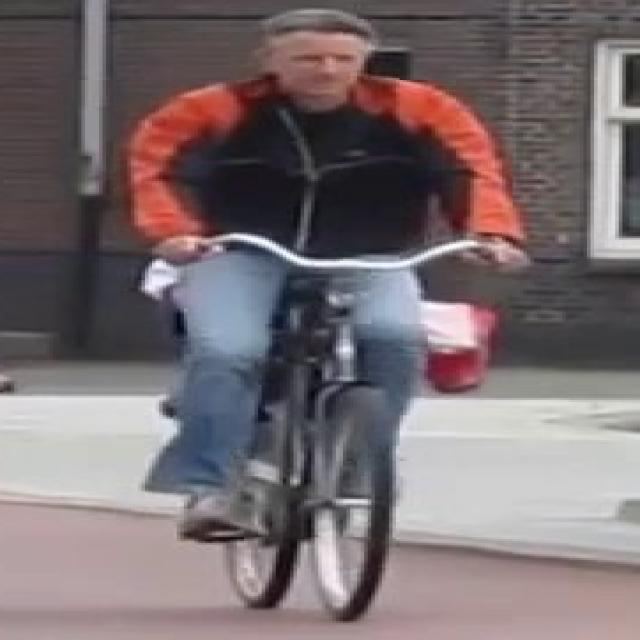car: (71, 213, 534, 632)
